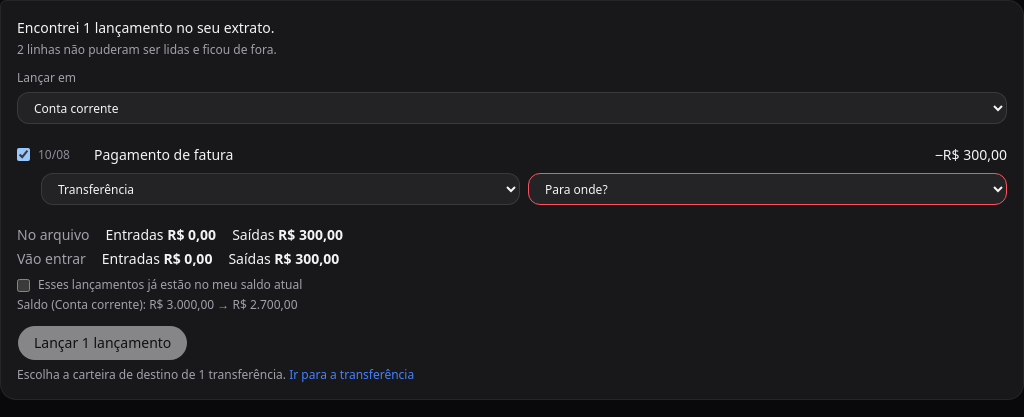
Test case: RevisaoImportacao › com dois cartões, escolher o destino já pago desmarca o pagamento
The image size is (1024, 417).
Expected: the checkbox named "Incluir Pagamento de fatura" is checked, [17,148,30,161]
Select "Cartão Nubank" in the dropdown named "Destino: Pagamento de fatura" at (768, 189), box [528,173,1007,205]
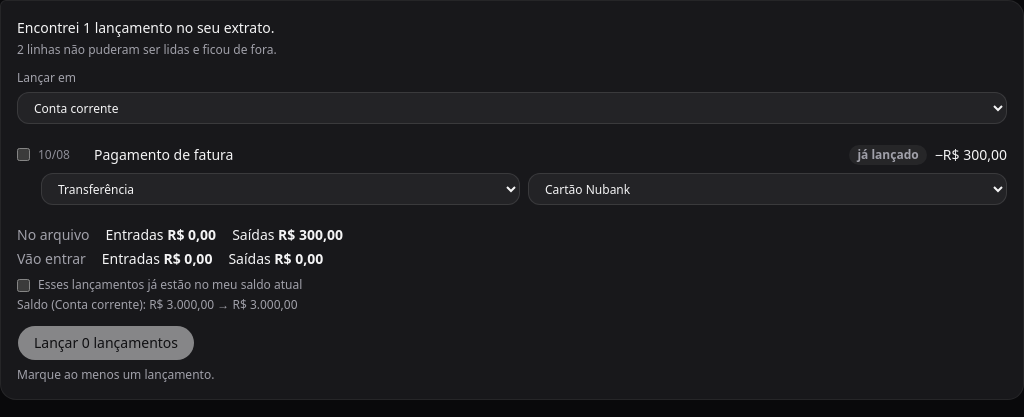
Expected: the checkbox named "Incluir Pagamento de fatura" is not checked, [17,148,30,161]
Select "Cartão Inter" in the dropdown named "Destino: Pagamento de fatura" at (768, 189), box [528,173,1007,205]
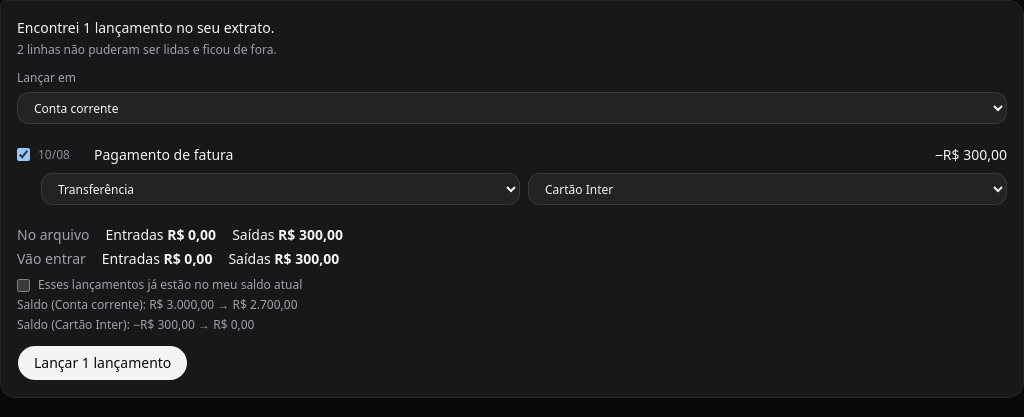
Expected: the checkbox named "Incluir Pagamento de fatura" is checked, [17,148,30,161]
